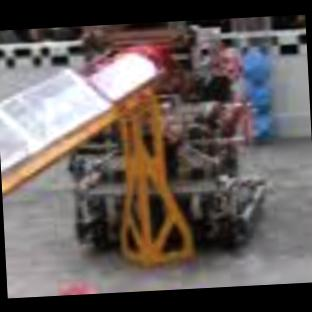Robot: (146, 97, 264, 254), (70, 134, 138, 253)
